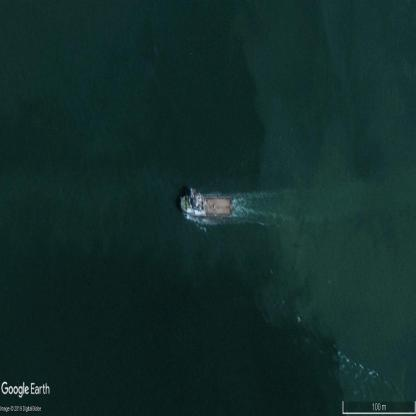ship: (180, 194, 231, 217)
